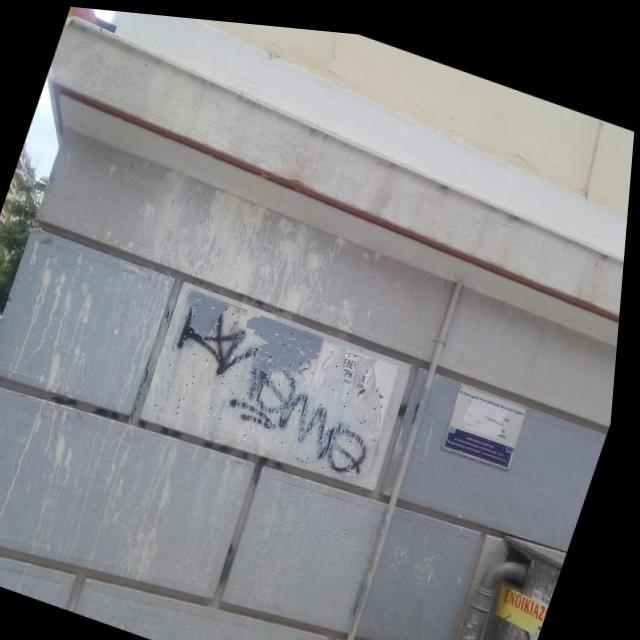-: (156, 290, 408, 477)
